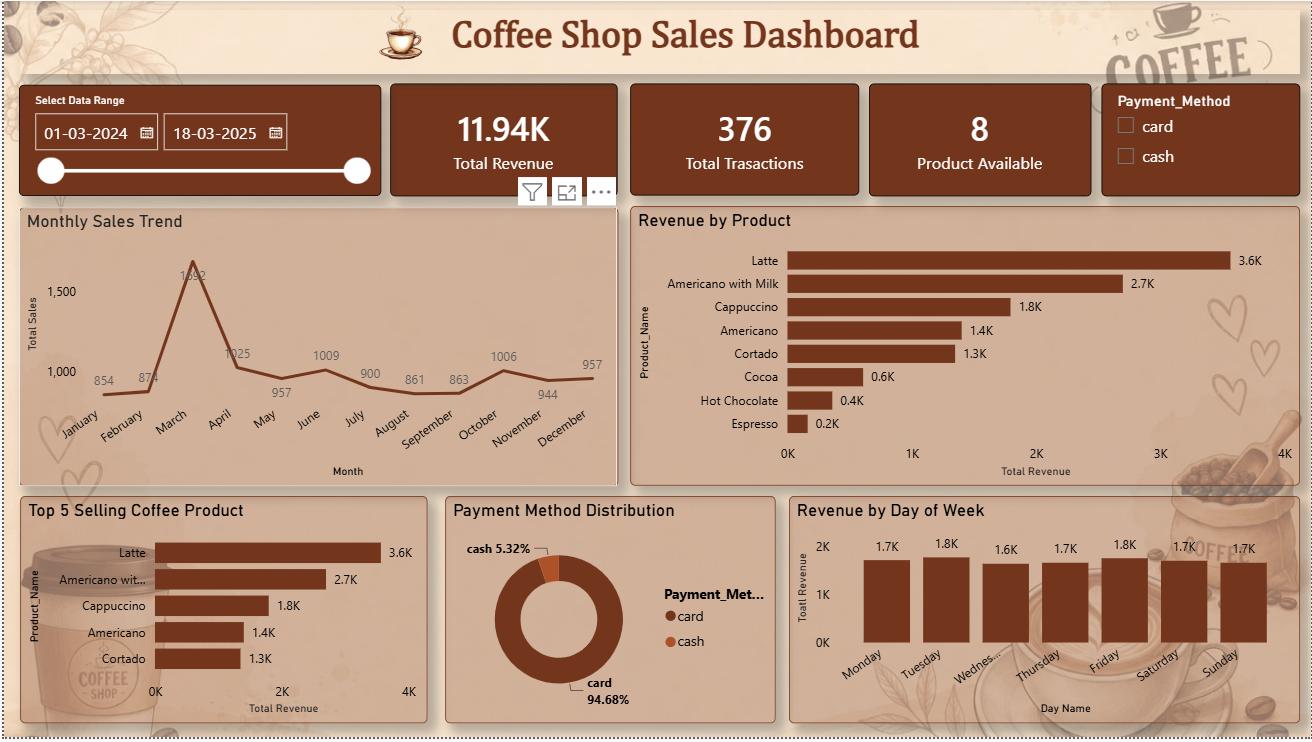

This screenshot's page, from the dashboard's own definition file:
{"tool":"powerbi","page":{"name":"Coffee Shop Sales Dashboard","canvas":[1280,720],"ordinal":0},"visuals":[{"type":"cardVisual","fields":{"Data":["Sum(Coffee Shop Dataset.Sales_Amount)"]},"box":[377.9,80.7,222.6,110.1],"z":0},{"type":"textbox","box":[15.9,8.6,1252.2,62.4],"z":1000},{"type":"cardVisual","fields":{"Data":["CountNonNull(Coffee Shop Dataset.Transaction_Date&Time)"]},"box":[612.9,80.8,224.4,109.8],"z":2000},{"type":"cardVisual","fields":{"Data":["Count(Coffee Shop Dataset.Product_Name)"]},"box":[846.2,80.7,217.7,110.1],"z":3000},{"type":"slicer","fields":{"Values":["Coffee Shop Dataset.Payment_Method "]},"box":[1073.6,80.7,194.4,110.1],"z":4000},{"type":"slicer","fields":{"Values":["Coffee Shop Dataset.Transaction_Date"]},"box":[14.7,81.9,354.6,108.8],"z":5000},{"type":"lineChart","title":"Monthly Sales Trend","fields":{"Category":["Coffee Shop Dataset.Transaction_Date.Variation.Date Hierarchy.Month"],"Y":["Sum(Coffee Shop Dataset.Sales_Amount)"]},"box":[14.5,201.5,586.3,272.7],"z":6000},{"type":"clusteredBarChart","title":"Revenue by Product","fields":{"Category":["Coffee Shop Dataset.Product_Name"],"Y":["Sum(Coffee Shop Dataset.Sales_Amount)"]},"box":[612.4,200.8,655.1,273.4],"z":7000},{"type":"donutChart","title":"Payment Method Distribution","fields":{"Category":["Coffee Shop Dataset.Payment_Method "],"Y":["CountNonNull(Coffee Shop Dataset.Transaction_Date&Time)"]},"box":[431.5,484.2,323.3,222.2],"z":8000},{"type":"clusteredColumnChart","title":"Revenue by Day of Week","fields":{"Category":["Coffee Shop Dataset.Day Name"],"Y":["Sum(Coffee Shop Dataset.Sales_Amount)"]},"box":[767.6,484.2,499.9,222.2],"z":9000},{"type":"clusteredBarChart","title":"Top 5 Selling Coffee Product","fields":{"Category":["Coffee Shop Dataset.Product_Name"],"Y":["Sum(Coffee Shop Dataset.Sales_Amount)"]},"box":[15.7,484.2,398.8,222.2],"z":10000},{"type":"image","box":[308.2,0,161.4,62.4],"z":10001}]}

Visuals, with their boxes in screenshot pixels (x1, y1, x2, y2), scaled from the page's 1280x720 canvas onto the 1312x742 screenshot:
cardVisual - Sum(Coffee Shop Dataset.Sales_Amount): (387, 83, 616, 197)
textbox: (16, 9, 1300, 73)
cardVisual - CountNonNull(Coffee Shop Dataset.Transaction_Date&Time): (628, 83, 858, 196)
cardVisual - Count(Coffee Shop Dataset.Product_Name): (867, 83, 1090, 197)
slicer - Coffee Shop Dataset.Payment_Method : (1100, 83, 1300, 197)
slicer - Coffee Shop Dataset.Transaction_Date: (15, 84, 379, 197)
"Monthly Sales Trend" lineChart: (15, 208, 616, 489)
"Revenue by Product" clusteredBarChart: (628, 207, 1299, 489)
"Payment Method Distribution" donutChart: (442, 499, 774, 728)
"Revenue by Day of Week" clusteredColumnChart: (787, 499, 1299, 728)
"Top 5 Selling Coffee Product" clusteredBarChart: (16, 499, 425, 728)
image: (316, 0, 481, 64)
